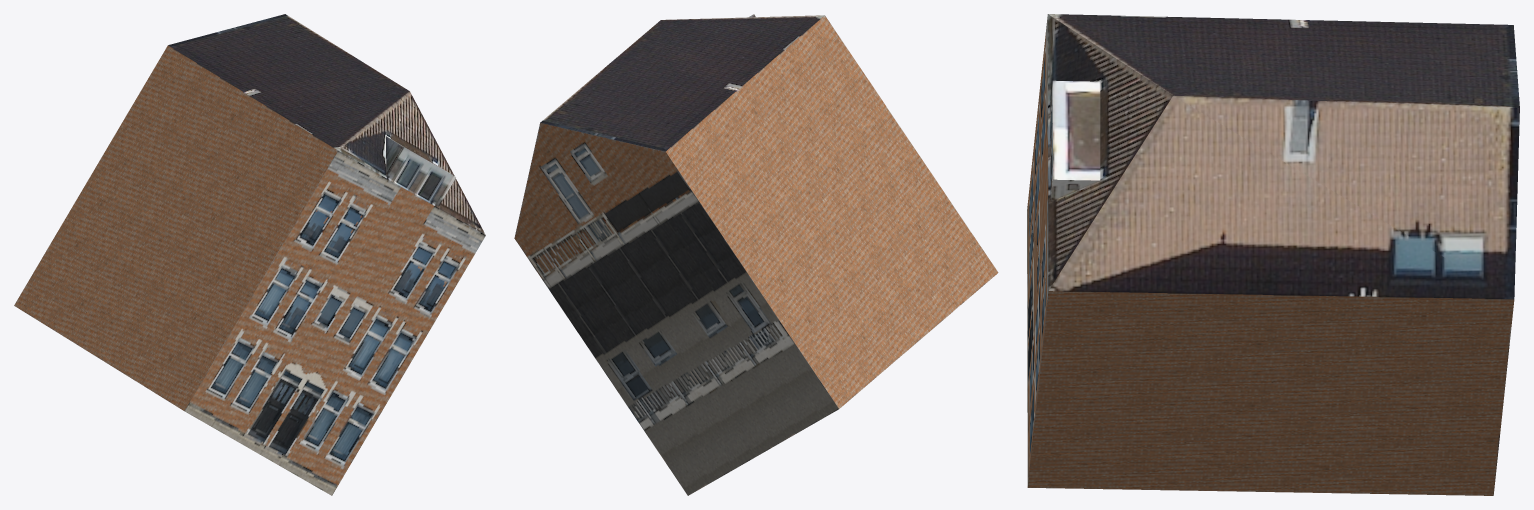
3 views of the same model, side by side, from view 1: azimuth 30°, elevation 25°; view 2: azimuth 150°, elevation 25°; view 3: azimuth 270°, elevation 25° (orthographic). The views are drawn at different scales.
Parts seen in each view (by area): view 1: BAG_0599100000675868 (×4); view 2: BAG_0599100000675868 (×3); view 3: BAG_0599100000675868 (×5).
Part boxes in pixels (x1,y1,x2,y2): BAG_0599100000675868 (×4): [14, 14, 485, 495]; BAG_0599100000675868 (×3): [514, 15, 998, 495]; BAG_0599100000675868 (×5): [1027, 14, 1519, 495].
Bounding box in the file's own units: 13.32 × 13.94 × 12.51.
Materials: 1 (1 with a texture image).
